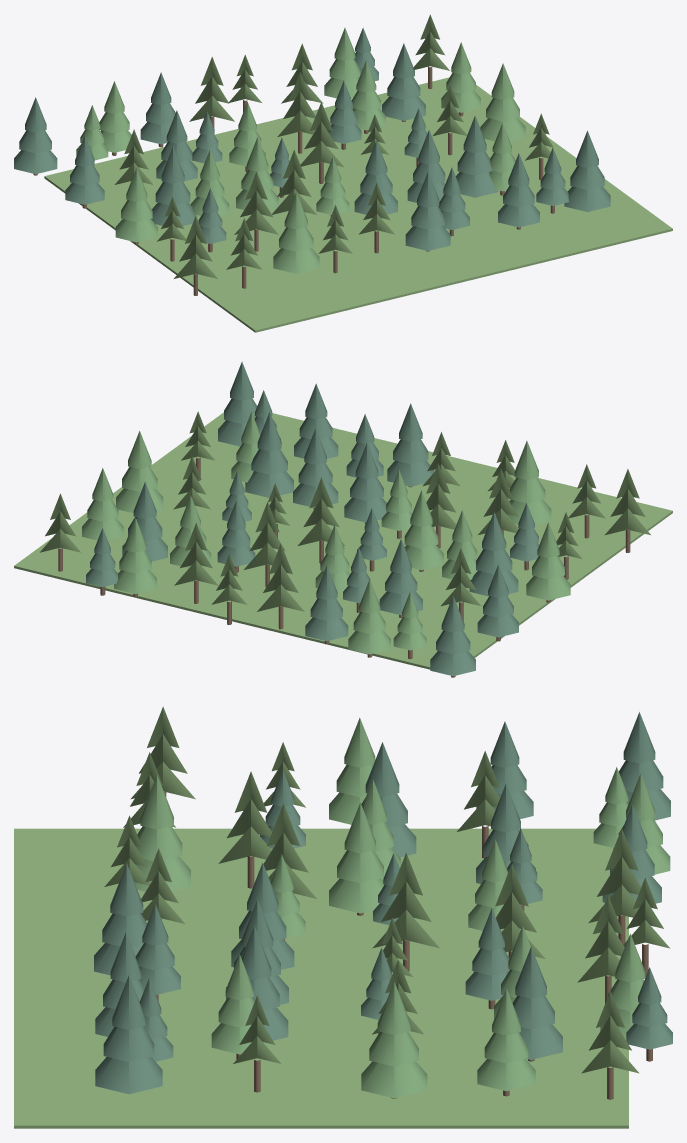
Rendered from bg_forest_strip_dense.glb.
3 renders of one model, top to bottom at view 1: azimuth 30°, elevation 25°; view 2: azimuth 150°, elevation 25°; view 3: azimuth 270°, elevation 25°, orthographic. The views are drawn at different scales.
Visible parts, largest first — view 1: bg_forest_strip_dense; view 2: bg_forest_strip_dense; view 3: bg_forest_strip_dense.
Part boxes in pixels (box(x1,y1,x2,y2)): bg_forest_strip_dense: box(14, 14, 672, 332); bg_forest_strip_dense: box(14, 361, 672, 677); bg_forest_strip_dense: box(14, 706, 672, 1128).
Size of the model in its own units: 42.96 by 7.66 by 37.51.
